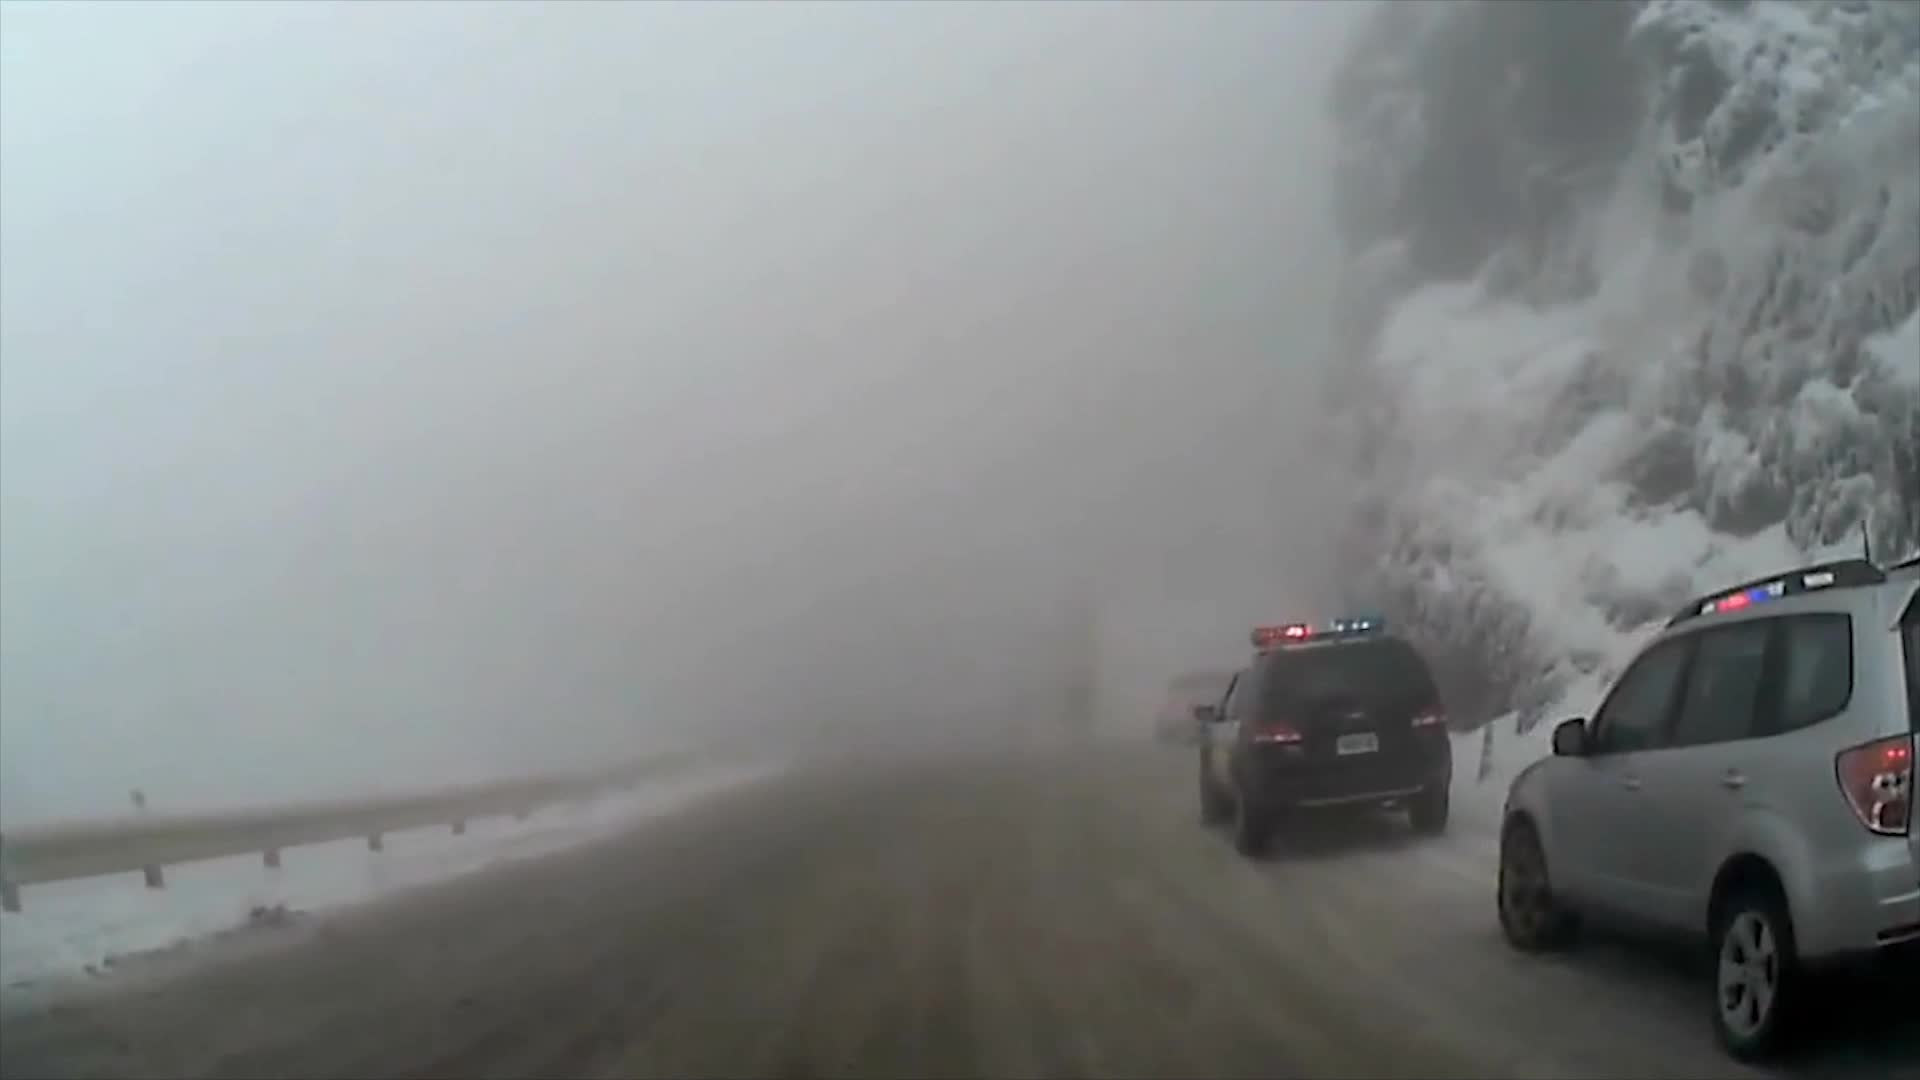vehicle: (1494, 541, 1920, 1064), (1189, 611, 1455, 857)
